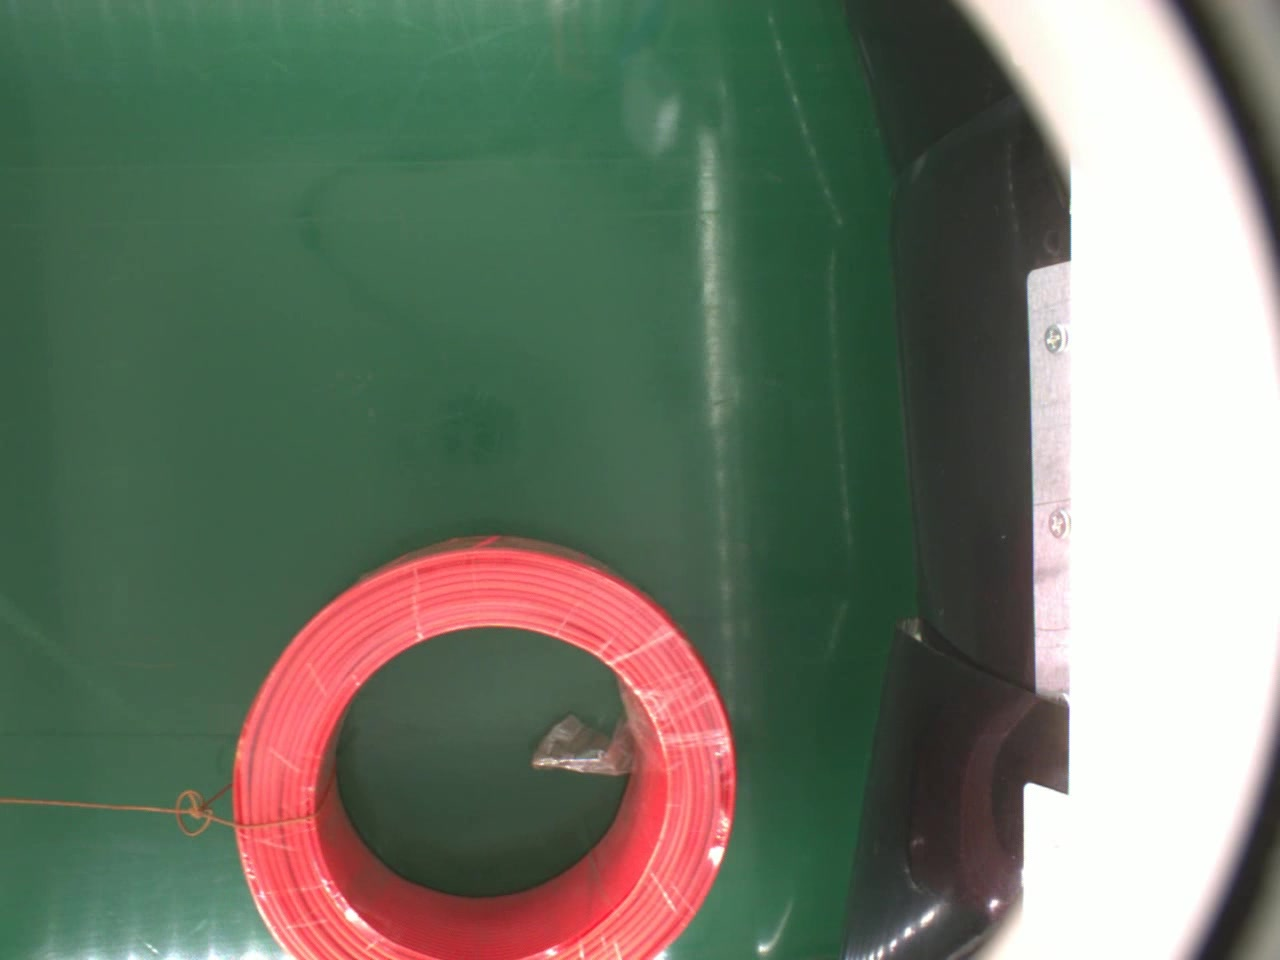red: (235, 532, 746, 954)
